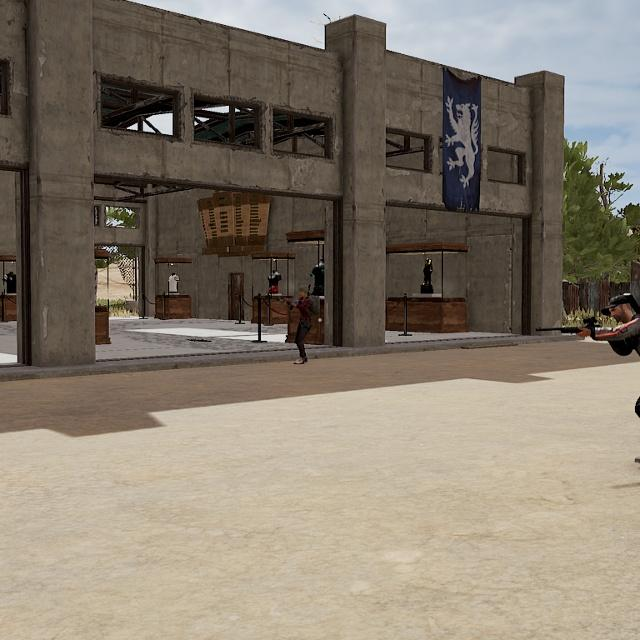head: (608, 294, 638, 324), (297, 283, 311, 301)
people: (609, 293, 640, 466), (290, 283, 316, 364)
